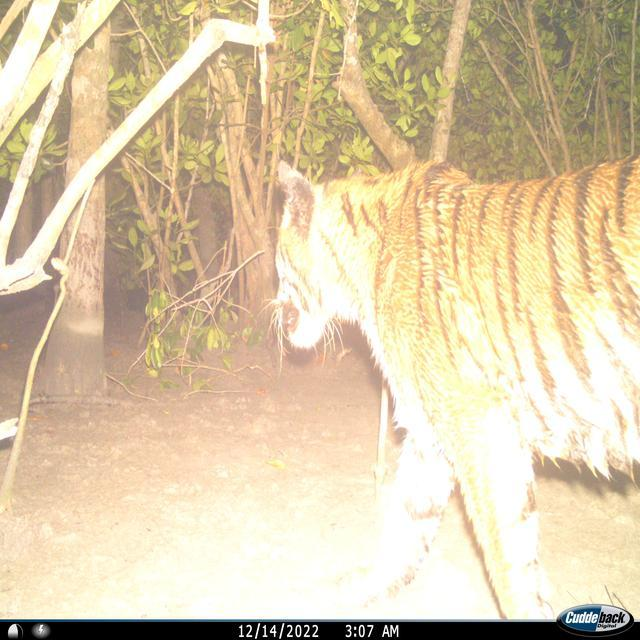tiger: (268, 151, 639, 619)
